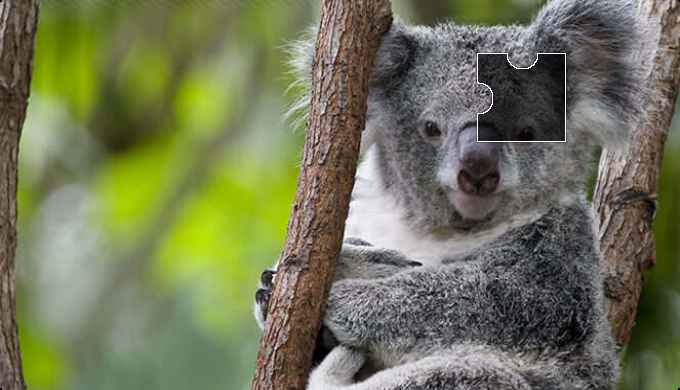gap: (478, 54, 566, 141)
